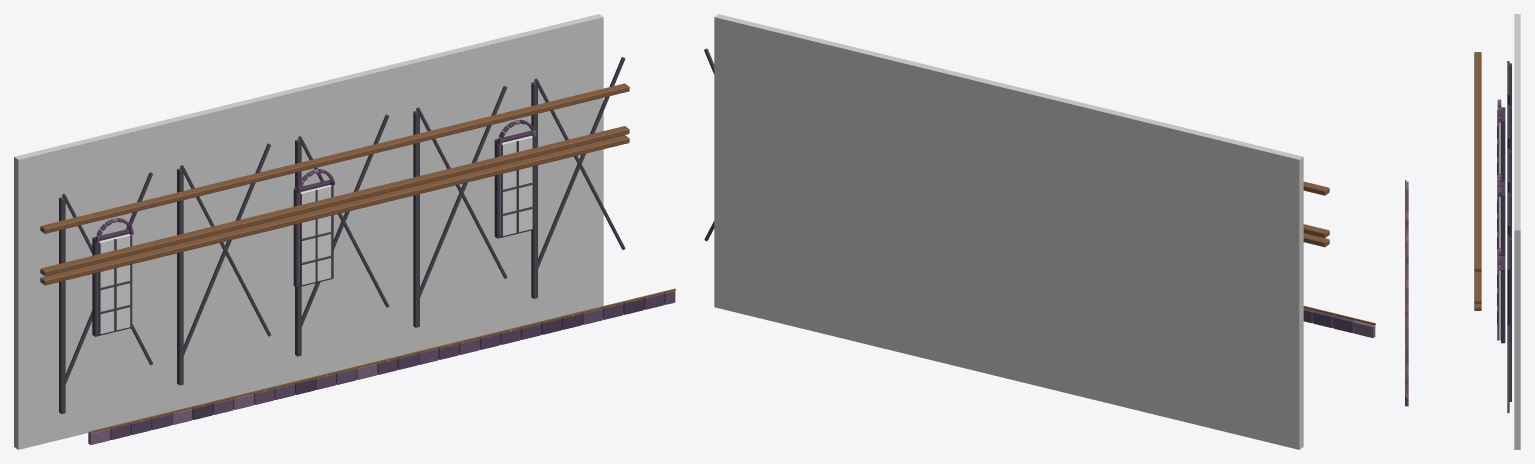
Rendered from SM_Workshop_Background_02.fbx.
3 renders of one model, left to right at view 1: azimuth 30°, elevation 25°; view 2: azimuth 150°, elevation 25°; view 3: azimuth 270°, elevation 25°, orthographic. The views are drawn at different scales.
Visible parts, largest first — view 1: SM_Workshop_Background_02; view 2: SM_Workshop_Background_02; view 3: SM_Workshop_Background_02.
Part boxes in pixels (<box>): SM_Workshop_Background_02: <box>14,14,675,449</box>; SM_Workshop_Background_02: <box>704,14,1375,449</box>; SM_Workshop_Background_02: <box>1404,14,1520,449</box>.
Bounding box in the file's own units: 2936 × 649 × 1350.
